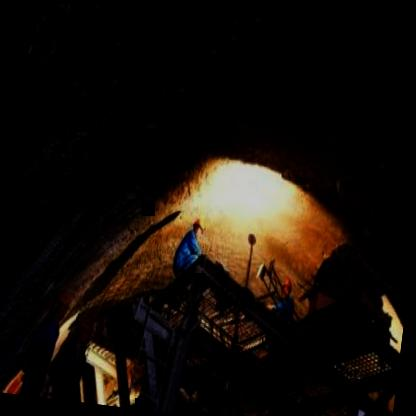helmet: (50, 288, 74, 322), (77, 314, 95, 346), (189, 216, 206, 238), (279, 276, 294, 299)
